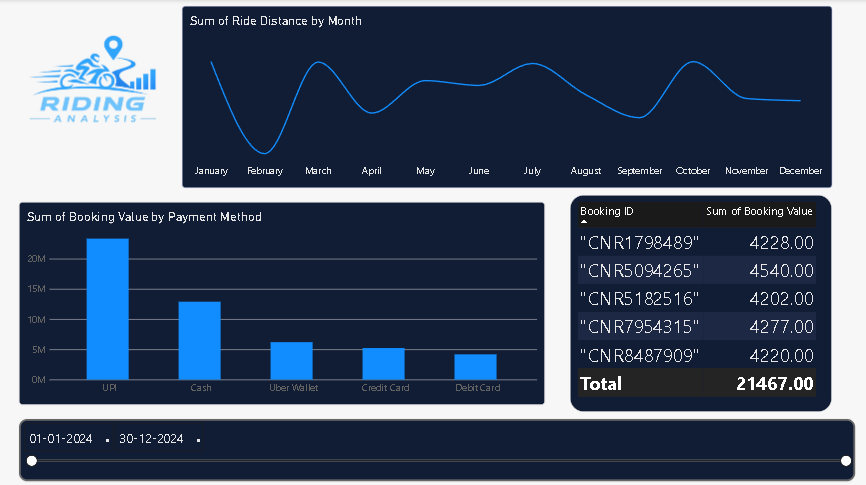

The page's visual inventory and layout, read from the dashboard file:
{"tool":"powerbi","page":{"name":"Revenue","canvas":[1920,1080],"ordinal":3},"visuals":[{"type":"columnChart","fields":{"Category":["rideBookings.Payment Method"],"Y":["Sum(rideBookings.Booking Value)"]},"box":[46.3,447.4,1159.3,447.4],"z":0},{"type":"lineChart","fields":{"Category":["calendar.Date.Variation.Date Hierarchy.Month"],"Y":["Sum(rideBookings.Ride Distance)"]},"box":[405.6,15.4,1432.7,401.1],"z":1000},{"type":"slicer","fields":{"Values":["calendar.Date"]},"box":[46.3,925.7,1842.6,136.7],"z":2000},{"type":"tableEx","fields":{"Values":["rideBookings.Booking ID","Sum(rideBookings.Booking Value)"]},"box":[1260.7,432,577.5,478.3],"z":3000},{"type":"image","box":[35.3,15.4,348.2,343.8],"z":3001}]}

Visuals, with their boxes in screenshot pixels (x1, y1, x2, y2), scaled from the page's 1920x1080 canvas onto the 866x485 screenshot:
columnChart - rideBookings.Payment Method x Sum(rideBookings.Booking Value): rect(21, 201, 544, 402)
lineChart - calendar.Date.Variation.Date Hierarchy.Month x Sum(rideBookings.Ride Distance): rect(183, 7, 829, 187)
slicer - calendar.Date: rect(21, 416, 852, 477)
tableEx - rideBookings.Booking ID x Sum(rideBookings.Booking Value): rect(569, 194, 829, 409)
image: rect(16, 7, 173, 161)
